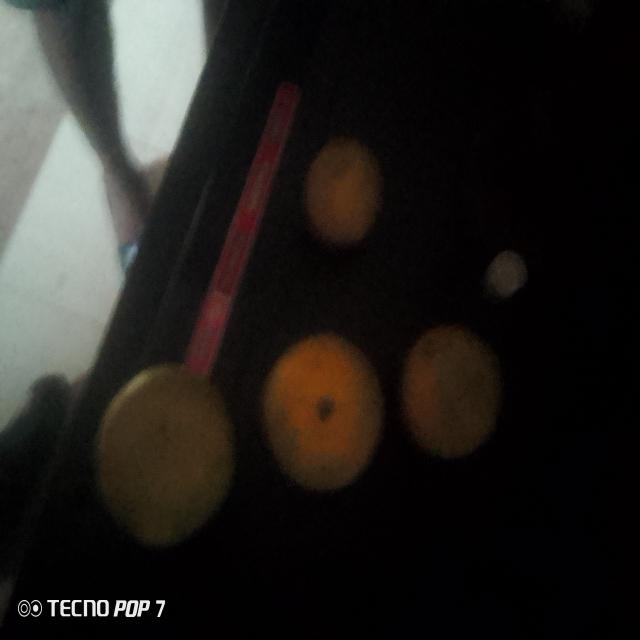agrume: (102, 367, 225, 533), (259, 343, 383, 488), (402, 325, 504, 459), (302, 136, 385, 243)
